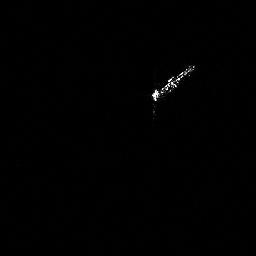ship: (148, 64, 196, 118)
